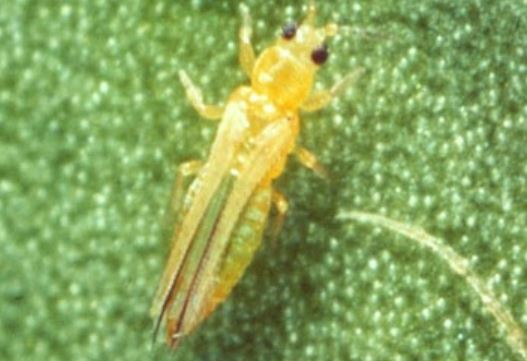Thrips: (91, 1, 374, 361)
